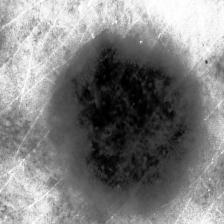Benign Marking or Mole: (40, 31, 203, 206)
